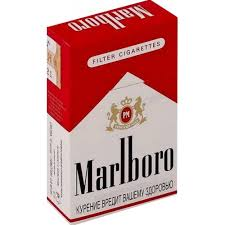marlboro: (66, 33, 173, 208)
